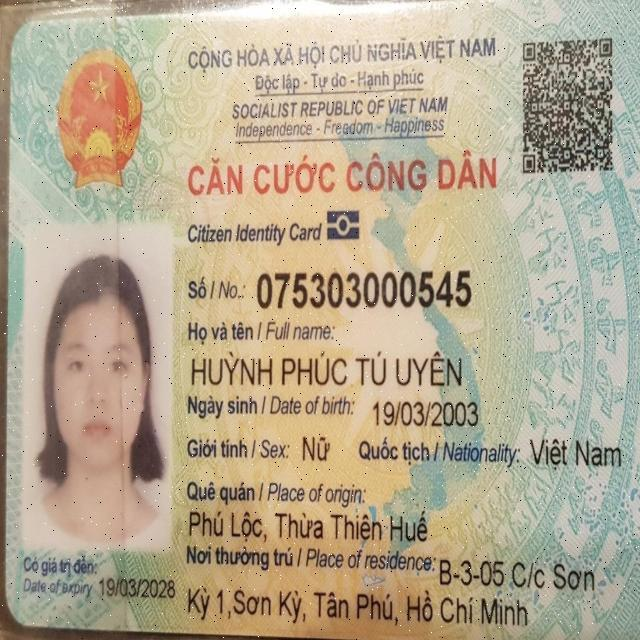current_place: (185, 583, 529, 632), (437, 555, 596, 594)
dob: (371, 397, 480, 430)
expire_date: (97, 574, 177, 602)
gender: (300, 431, 333, 466)
id: (255, 265, 474, 315)
name: (189, 348, 464, 394)
nationality: (527, 435, 624, 473)
origin_place: (186, 507, 430, 545)
qr: (520, 38, 618, 178)
